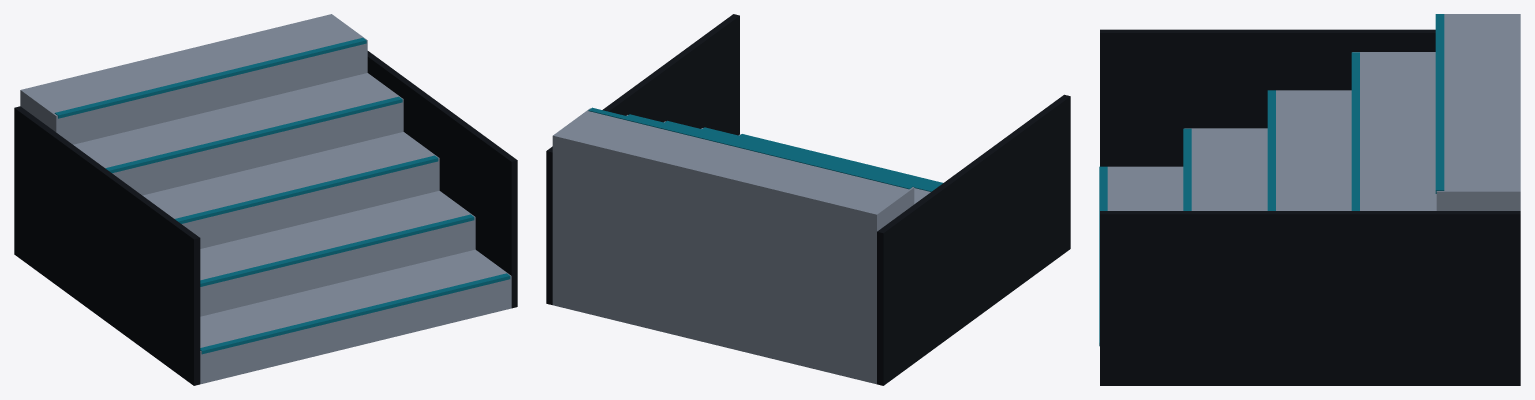
The model's file is SM_Stairs_2x2_Rise1.glb.
The picture shows the model from 3 angles, left to right: view 1: azimuth 30°, elevation 25°; view 2: azimuth 150°, elevation 25°; view 3: azimuth 270°, elevation 25°; orthographic projection. The views are drawn at different scales.
Visible parts, largest first — view 1: SM_Stairs_2x2_Rise1-col; view 2: SM_Stairs_2x2_Rise1-col; view 3: SM_Stairs_2x2_Rise1-col.
Boxes of the visible parts, <box> form: SM_Stairs_2x2_Rise1-col: <box>14,14,517,385</box>; SM_Stairs_2x2_Rise1-col: <box>546,14,1070,385</box>; SM_Stairs_2x2_Rise1-col: <box>1099,14,1520,385</box>.
Size of the model in its own units: 2.08 by 1 by 2.
